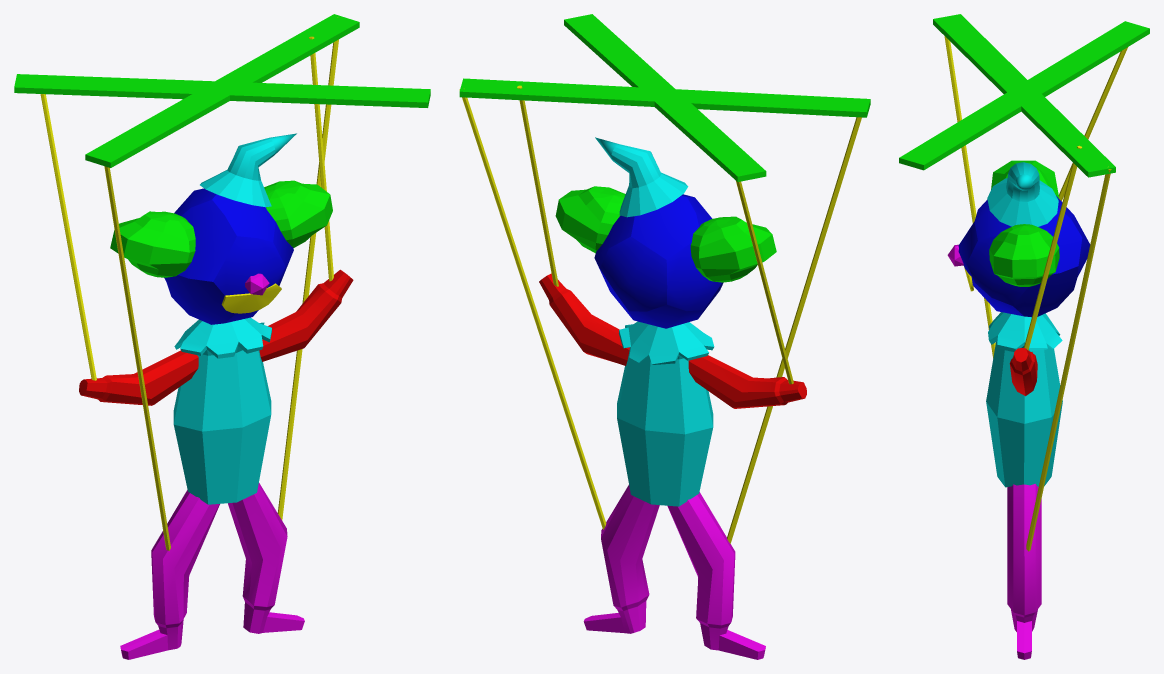
File: puppet.fbx
3 views of the same model, side by side, from view 1: azimuth 30°, elevation 25°; view 2: azimuth 150°, elevation 25°; view 3: azimuth 270°, elevation 25° (orthographic). The views are drawn at different scales.
Parts seen in each view (by area): view 1: puppet; view 2: puppet; view 3: puppet.
Part boxes in pixels (box(x1,y1,x2,y2)): puppet: box(14, 14, 430, 659); puppet: box(459, 14, 870, 659); puppet: box(899, 14, 1149, 659).
Size of the model in its own units: 7 by 10.97 by 4.69.
